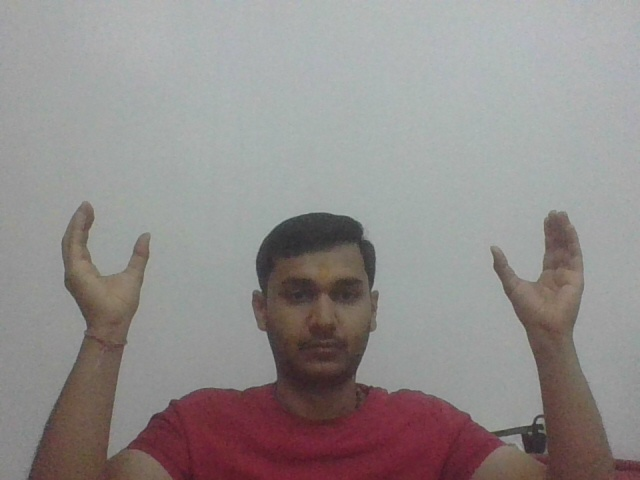U: (488, 205, 589, 334), (56, 196, 155, 325)
